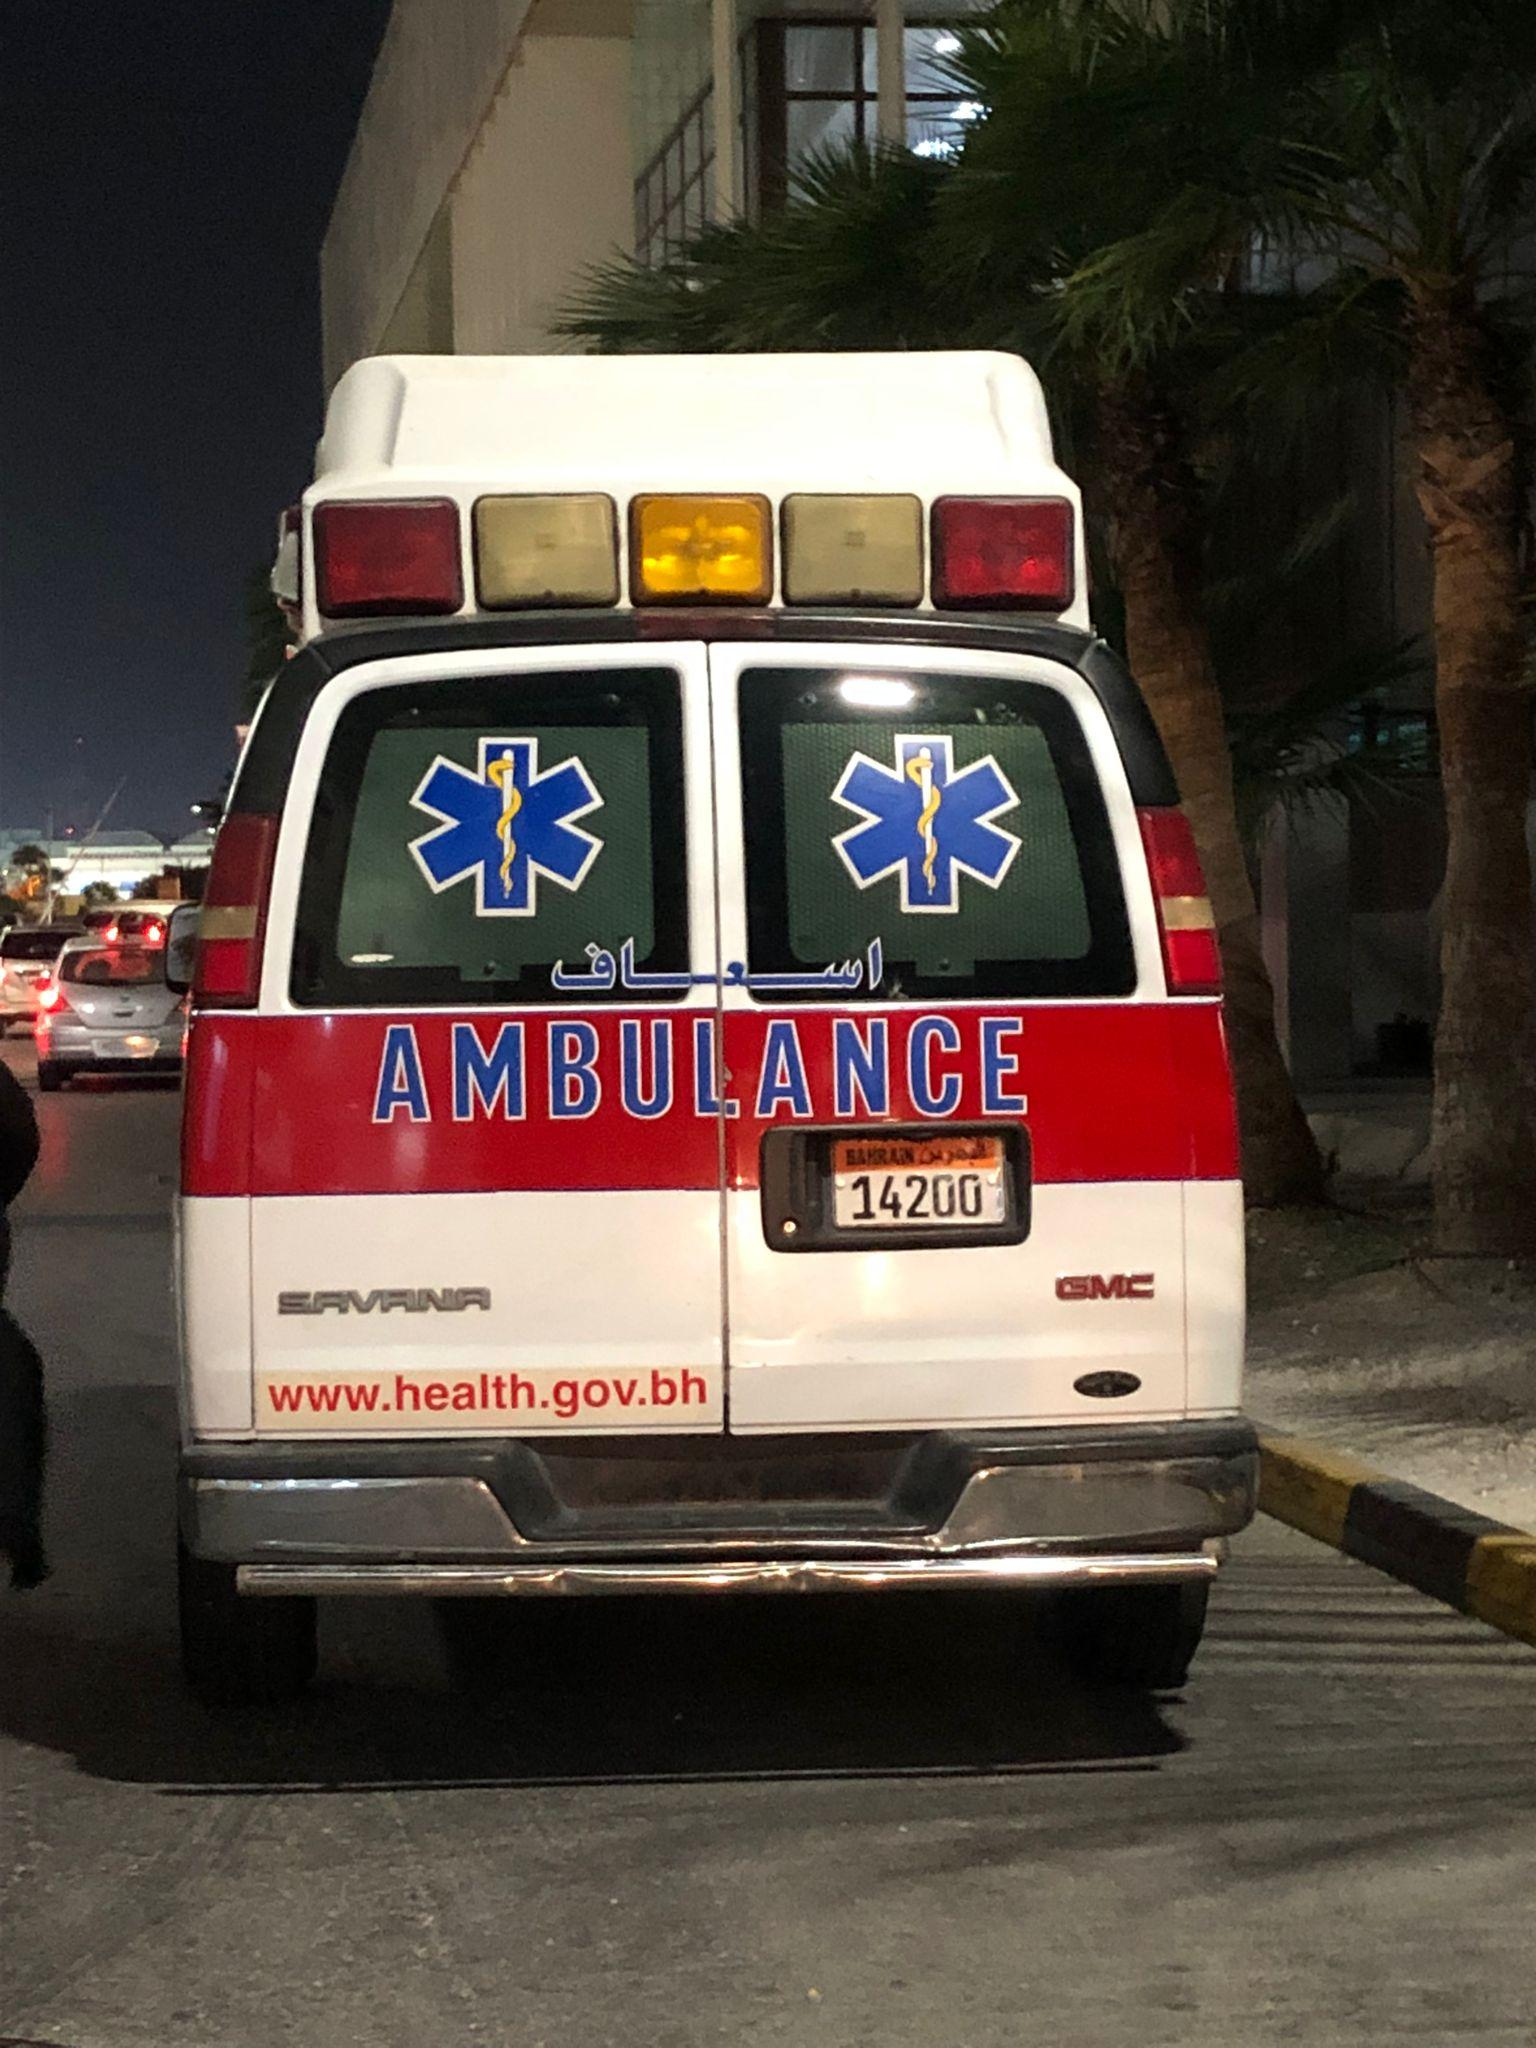ambulance_off: (169, 349, 1245, 1705)
